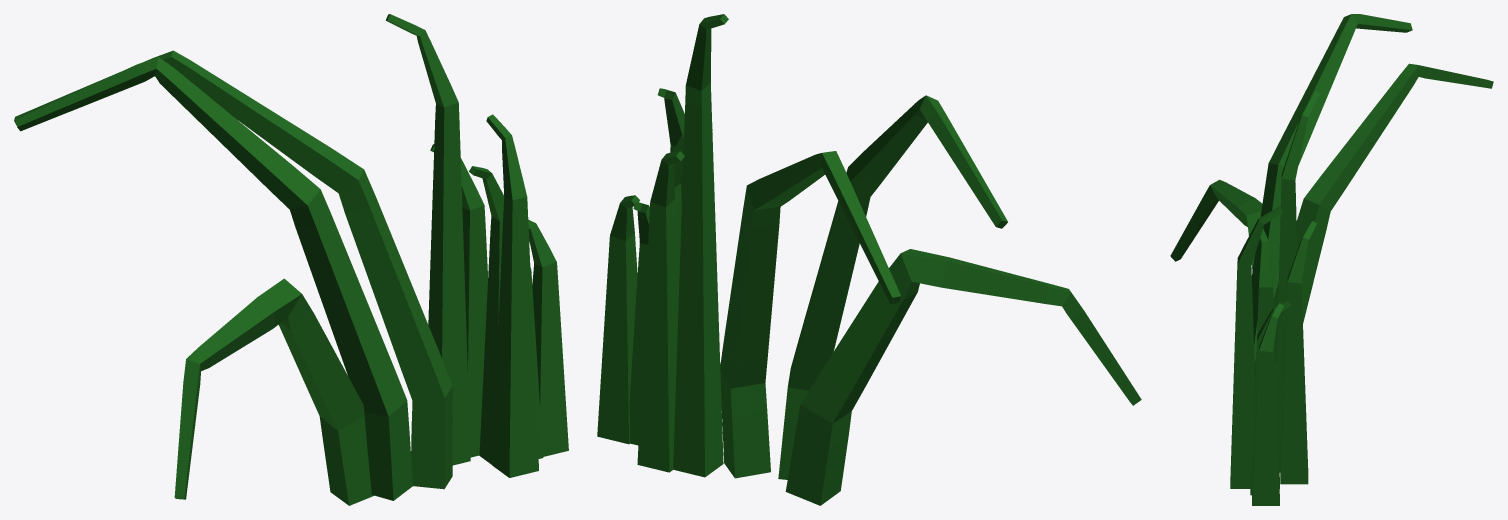
File: grass_B.fbx
3 views of the same model, side by side, from view 1: azimuth 30°, elevation 25°; view 2: azimuth 150°, elevation 25°; view 3: azimuth 270°, elevation 25° (orthographic). The views are drawn at different scales.
Parts seen in each view (by area): view 1: Cube.565; view 2: Cube.565; view 3: Cube.565.
Boxes of the visible parts, <box> form: Cube.565: <box>14,14,568,505</box>; Cube.565: <box>597,14,1141,505</box>; Cube.565: <box>1170,14,1493,505</box>.
Bounding box in the file's own units: 9.25 × 8.67 × 6.96.
